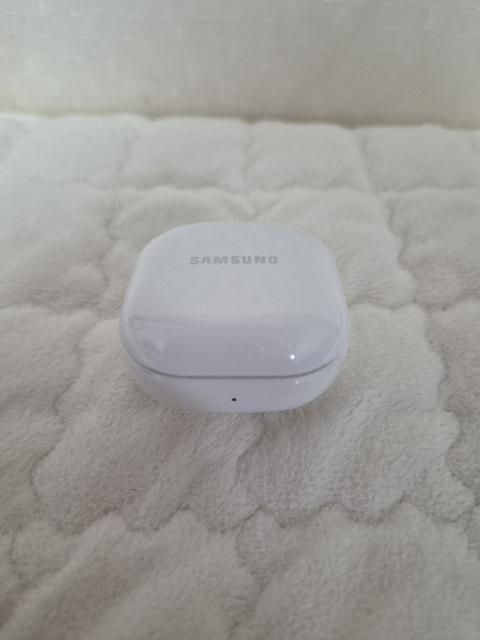earphone_case: (119, 221, 351, 413)
